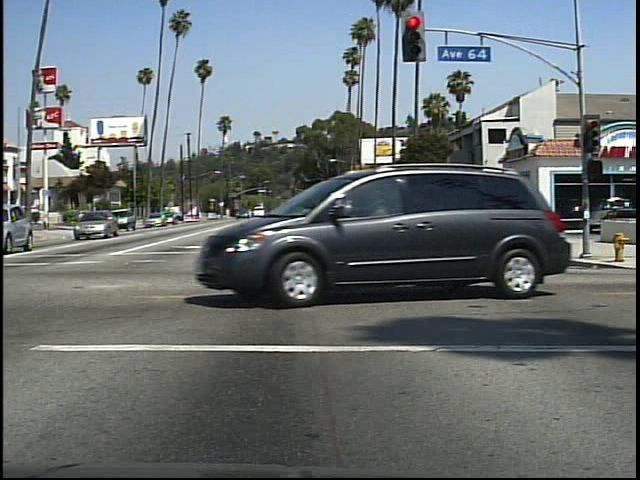person: (529, 194, 556, 247)
